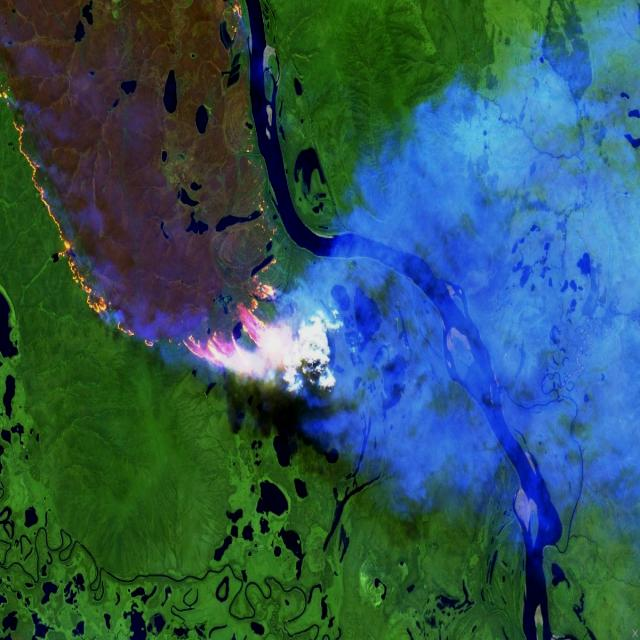fire: (0, 0, 347, 397)
